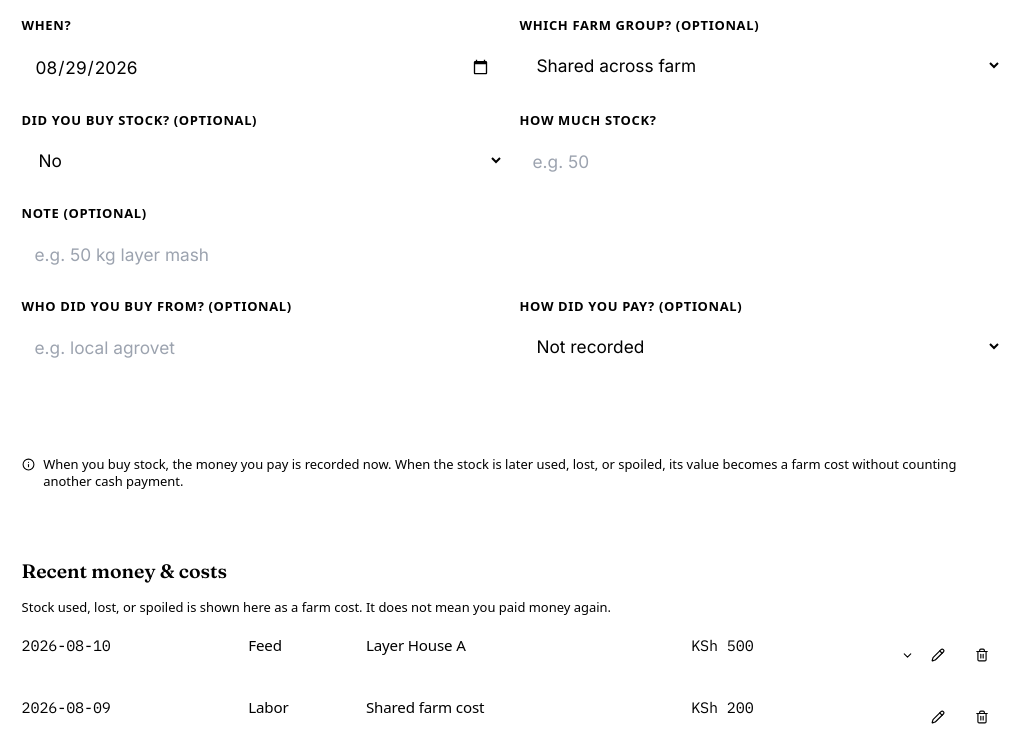
Scenario: ExpensesView — expandable rows with optional detail › clicking a row reveals its supplier and payment method
(page scrolled)
Step 1. Click the text "KSh 500" → coordinates (66, 646), box x1=0 y1=625 x2=1023 y2=686
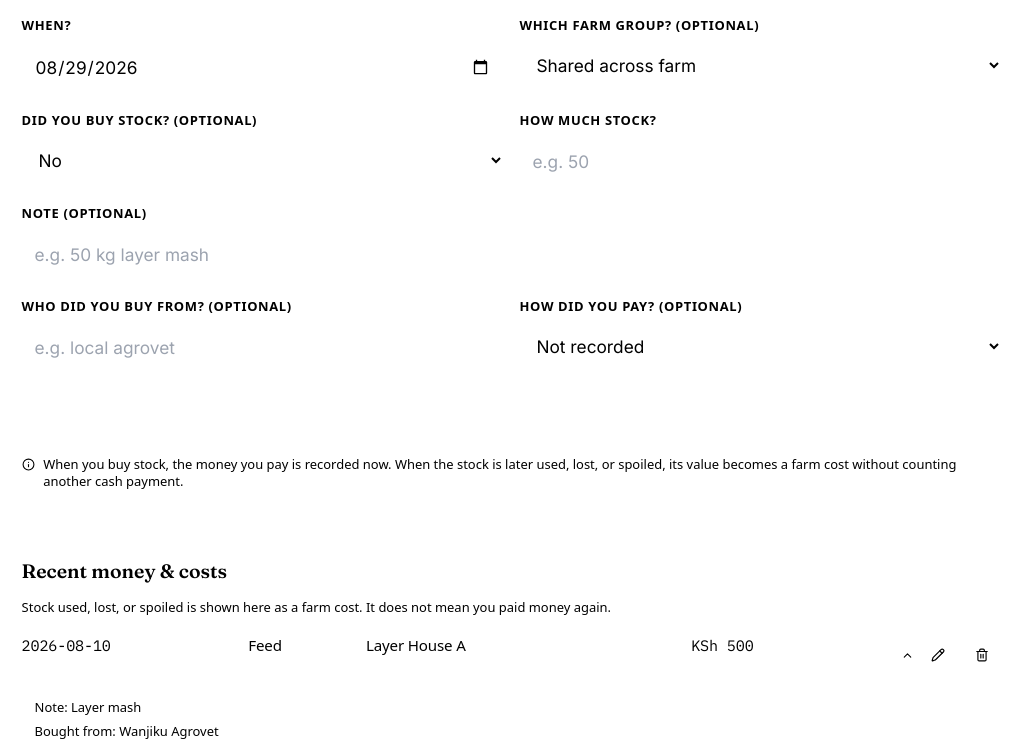
Check: the text "Wanjiku Agrovet" is shown, box x1=119 y1=722 x2=219 y2=740
